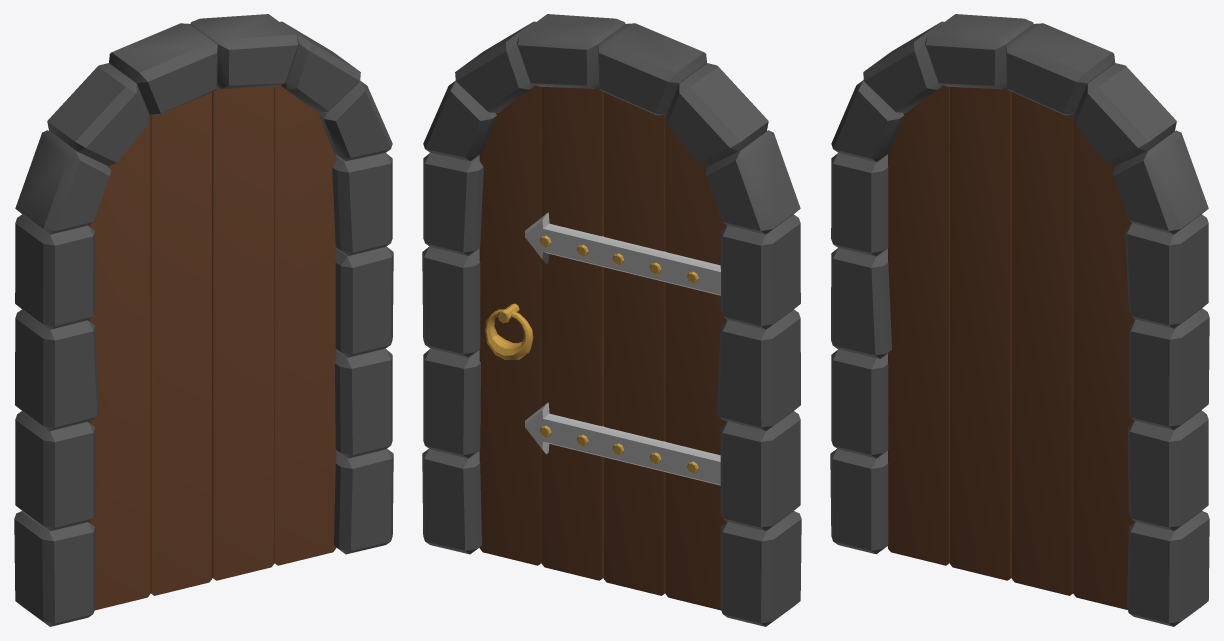
The model's file is Porta.fbx.
3 renders of one model, left to right at view 1: azimuth 30°, elevation 25°; view 2: azimuth 150°, elevation 25°; view 3: azimuth 330°, elevation 25°, orthographic.
Parts seen in each view (by area): view 1: Porta; view 2: Porta; view 3: Porta.
Part boxes in pixels (x1,y1,x2,y2): Porta: [14, 14, 393, 626]; Porta: [422, 14, 801, 626]; Porta: [830, 14, 1209, 626].
Size of the model in its own units: 674 by 999 by 134.
